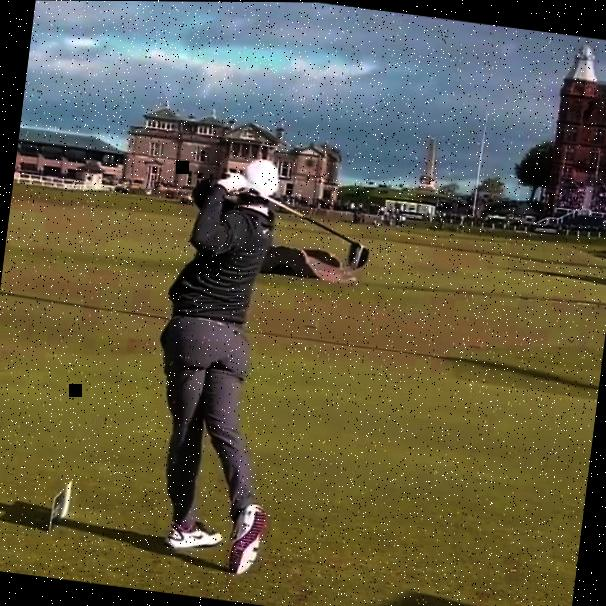ClubHead: (346, 241, 370, 271)
